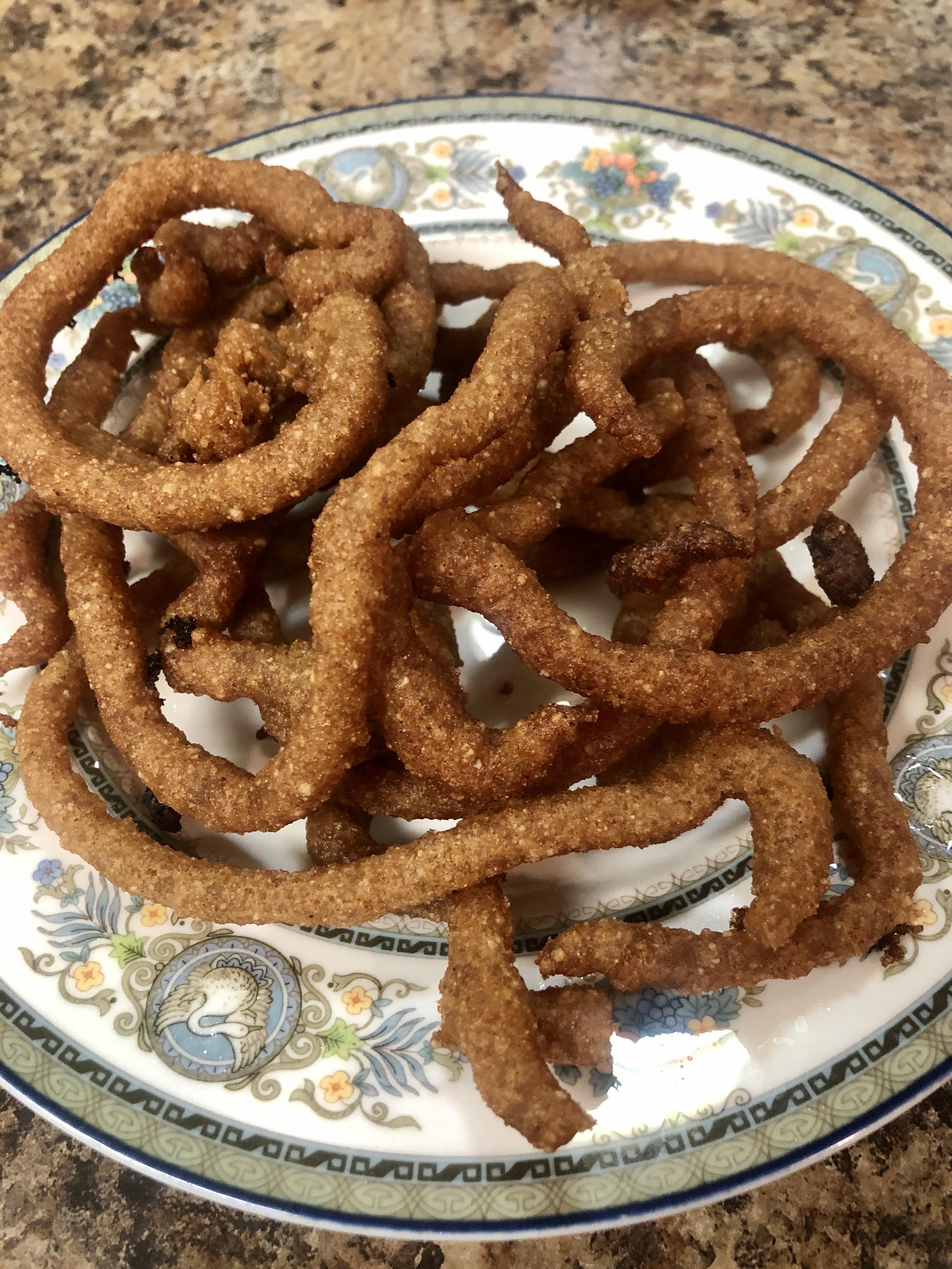sel_roti: (576, 286, 948, 705), (13, 157, 381, 526), (54, 519, 390, 831), (592, 743, 831, 963)
